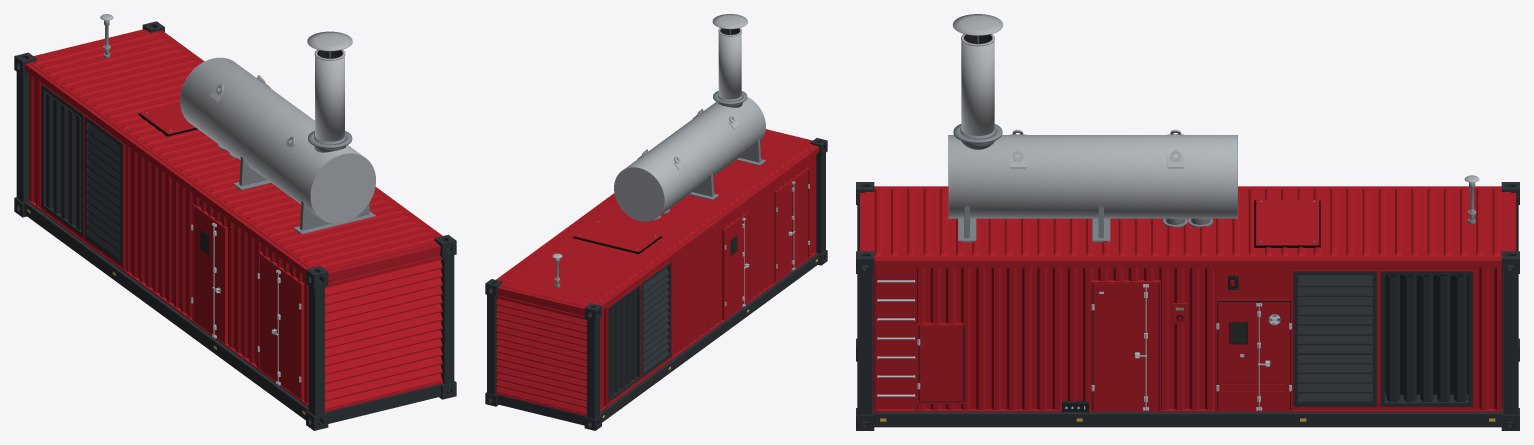
The model's file is container.glb.
3 views of the same model, side by side, from view 1: azimuth 30°, elevation 25°; view 2: azimuth 150°, elevation 25°; view 3: azimuth 270°, elevation 25° (orthographic). The views are drawn at different scales.
Visible parts, largest first — view 1: Roof_continuous_pressed_corrugated_sheet, Rear_Continuous_Pressed_Wall, Silencer_horizontal_shell, Frame_Lower_Long_Rail_-1, Silencer_near_welded_endcap, rear_service_door_leaf_1, Frame_Upper_Long_Rail_-1, Exhaust_upright_open_pipe, rear_double_door_leaf_2, rear_double_door_leaf_1, Frame_Corner_Post_-1_-1, Frame_Corner_Post_-1_1 (+37 smaller); view 2: Roof_continuous_pressed_corrugated_sheet, Rear_Continuous_Pressed_Wall, Silencer_horizontal_shell, Frame_Lower_Long_Rail_-1, Silencer_far_welded_endcap, rear_service_door_leaf_1, Frame_Upper_Long_Rail_-1, Exhaust_upright_open_pipe, Roof_access_hatch_folded_cover, rear_double_door_leaf_2, rear_double_door_leaf_1, Frame_Corner_Post_-1_1 (+32 smaller); view 3: Roof_continuous_pressed_corrugated_sheet, Front_Continuous_Pressed_Wall, Silencer_horizontal_shell, Frame_Lower_Long_Rail_1, known_main_door_leaf_1, Frame_Upper_Long_Rail_1, known_ladder_bay_recess_back, known_control_bay_leaf_1, known_small_hatch_leaf_1, Exhaust_upright_open_pipe, known_control_bay_leaf_2, Roof_access_hatch_folded_cover (+32 smaller).
Part boxes in pixels (<box>): Roof_continuous_pressed_corrugated_sheet: <box>29,30,439,270</box>; Rear_Continuous_Pressed_Wall: <box>29,74,308,403</box>; Silencer_horizontal_shell: <box>180,58,362,217</box>; Frame_Lower_Long_Rail_-1: <box>24,202,308,420</box>; Silencer_near_welded_endcap: <box>310,153,375,223</box>; rear_service_door_leaf_1: <box>193,206,224,342</box>; Frame_Upper_Long_Rail_-1: <box>25,63,309,275</box>; Exhaust_upright_open_pipe: <box>315,50,344,141</box>; rear_double_door_leaf_2: <box>259,255,280,381</box>; rear_double_door_leaf_1: <box>280,270,300,398</box>; Frame_Corner_Post_-1_-1: <box>308,285,324,415</box>; Frame_Corner_Post_-1_1: <box>16,72,29,202</box>; Roof_continuous_pressed_corrugated_sheet: <box>498,130,815,306</box>; Rear_Continuous_Pressed_Wall: <box>600,154,816,409</box>; Silencer_horizontal_shell: <box>625,97,765,216</box>; Frame_Lower_Long_Rail_-1: <box>600,253,819,422</box>; Silencer_far_welded_endcap: <box>614,167,664,221</box>; rear_service_door_leaf_1: <box>725,213,748,318</box>; Frame_Upper_Long_Rail_-1: <box>599,146,819,310</box>; Exhaust_upright_open_pipe: <box>718,28,741,99</box>; Roof_access_hatch_folded_cover: <box>574,220,660,252</box>; rear_double_door_leaf_2: <box>776,182,791,281</box>; rear_double_door_leaf_1: <box>792,170,807,267</box>; Frame_Corner_Post_-1_1: <box>587,318,599,419</box>; Roof_continuous_pressed_corrugated_sheet: <box>865,187,1510,258</box>; Front_Continuous_Pressed_Wall: <box>874,268,1501,411</box>; Silencer_horizontal_shell: <box>949,135,1236,218</box>; Frame_Lower_Long_Rail_1: <box>874,412,1501,427</box>; known_main_door_leaf_1: <box>1093,283,1158,410</box>; Frame_Upper_Long_Rail_1: <box>874,256,1501,267</box>; known_ladder_bay_recess_back: <box>877,268,914,408</box>; known_control_bay_leaf_1: <box>1218,302,1258,410</box>; known_small_hatch_leaf_1: <box>919,325,963,401</box>; Exhaust_upright_open_pipe: <box>961,35,994,135</box>; known_control_bay_leaf_2: <box>1259,302,1289,410</box>; Roof_access_hatch_folded_cover: <box>1255,199,1319,245</box>.
Bounding box in the file's own units: 0.269 × 0.6032 × 0.98.
17 materials, 1 textured.
